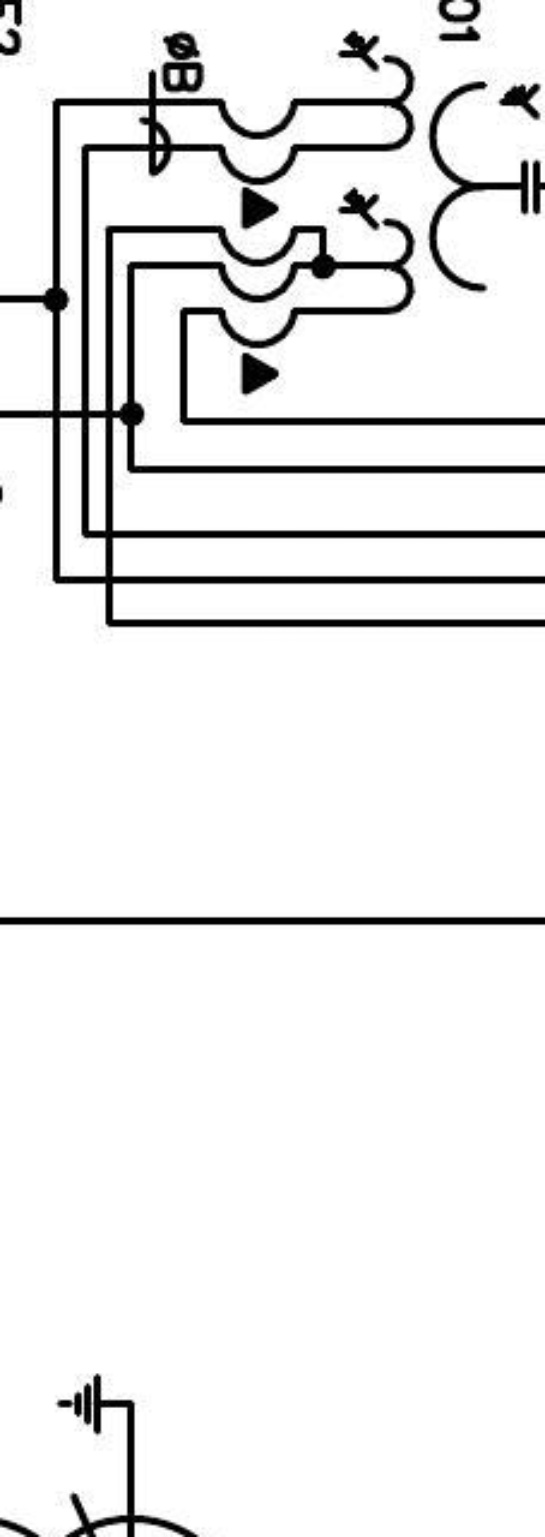115_cvt_3p: (336, 28, 541, 316)
